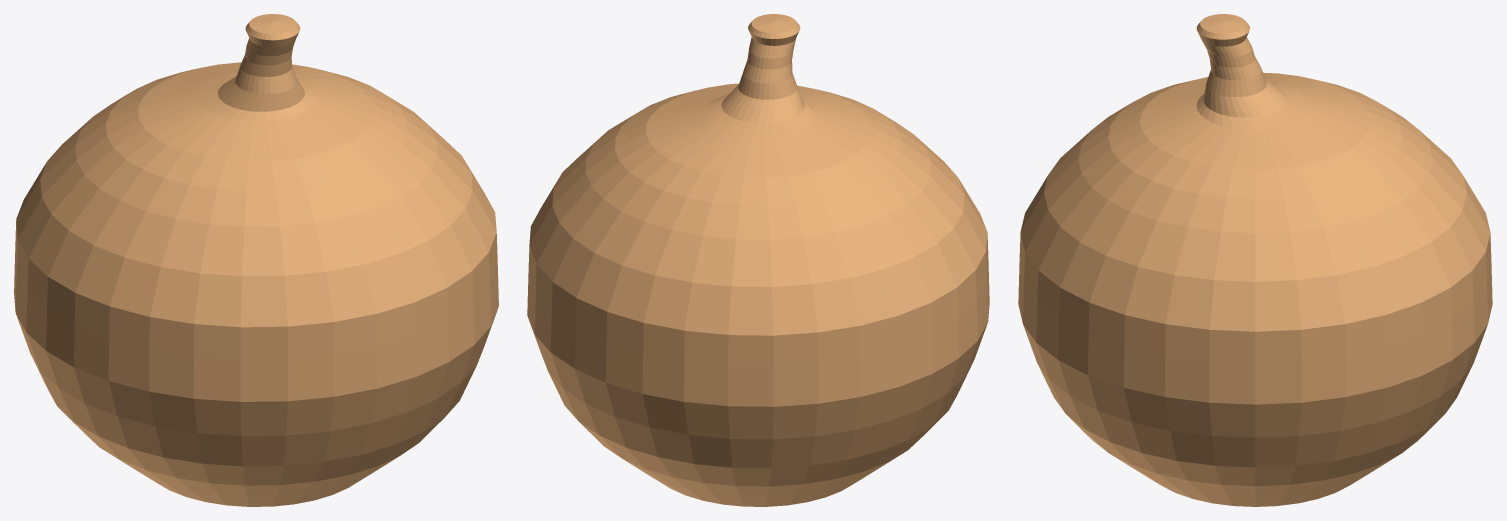
The model's file is onion.fbx.
3 views of the same model, side by side, from view 1: azimuth 30°, elevation 25°; view 2: azimuth 150°, elevation 25°; view 3: azimuth 270°, elevation 25° (orthographic). The views are drawn at different scales.
Parts seen in each view (by area): view 1: Sphere; view 2: Sphere; view 3: Sphere.
Part boxes in pixels (left/top/right/bottom): Sphere: left=14, top=14, right=498, bottom=506; Sphere: left=527, top=14, right=989, bottom=506; Sphere: left=1018, top=14, right=1492, bottom=506.
Size of the model in its own units: 864 by 928 by 864.
